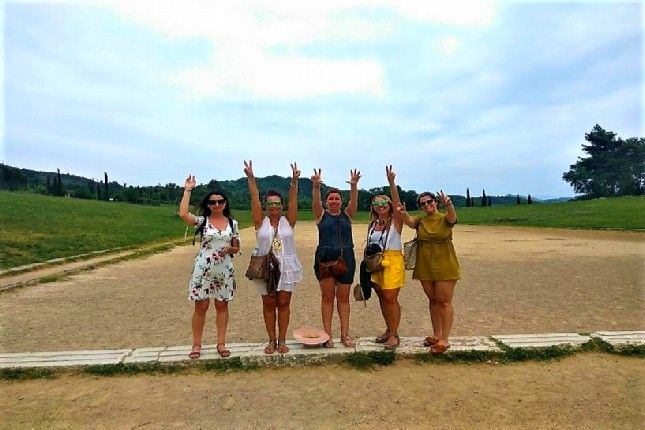Person: (242, 159, 303, 354), (178, 174, 241, 360), (395, 189, 461, 354), (310, 167, 363, 349), (363, 165, 406, 350)
